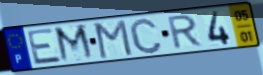4: (206, 9, 233, 47)
C: (128, 16, 165, 55)
E: (25, 27, 64, 66)
M: (53, 23, 98, 65), (93, 18, 135, 60)
R: (166, 13, 205, 51)
